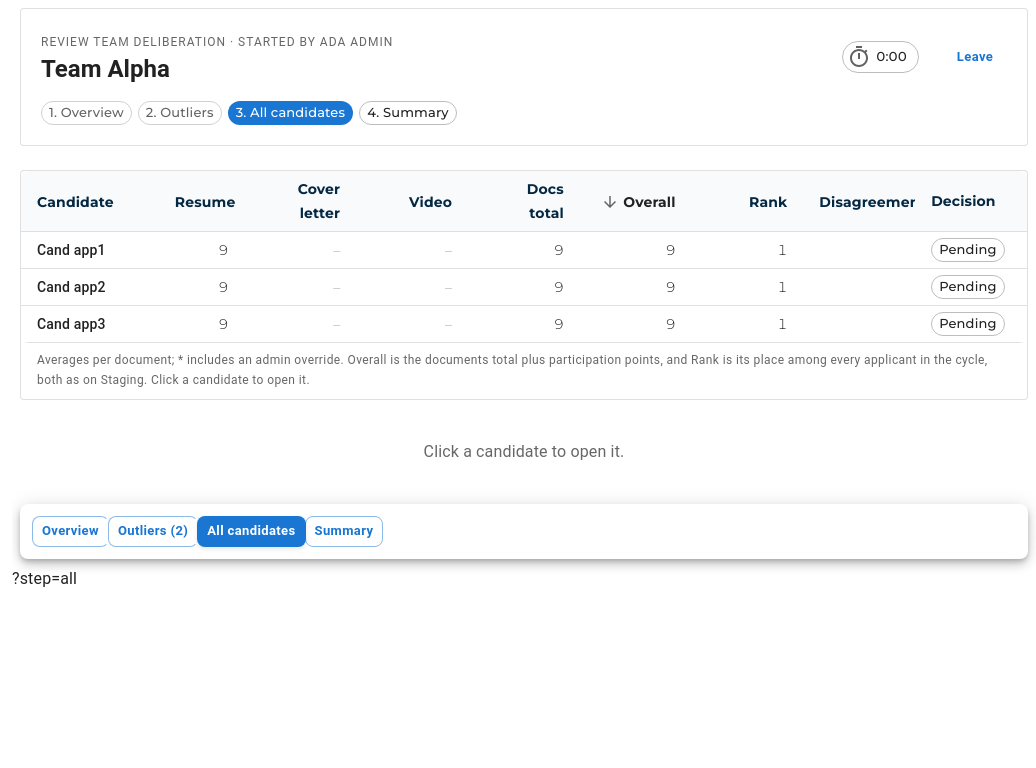
ReviewDelib: every viewer moves on their own › lets a member open any candidate from the list
Expected: the text "Click a candidate to open it." is shown, [424, 442, 624, 461]
Click the text "Cand app3".
click(77, 324)  # box [37, 314, 117, 334]
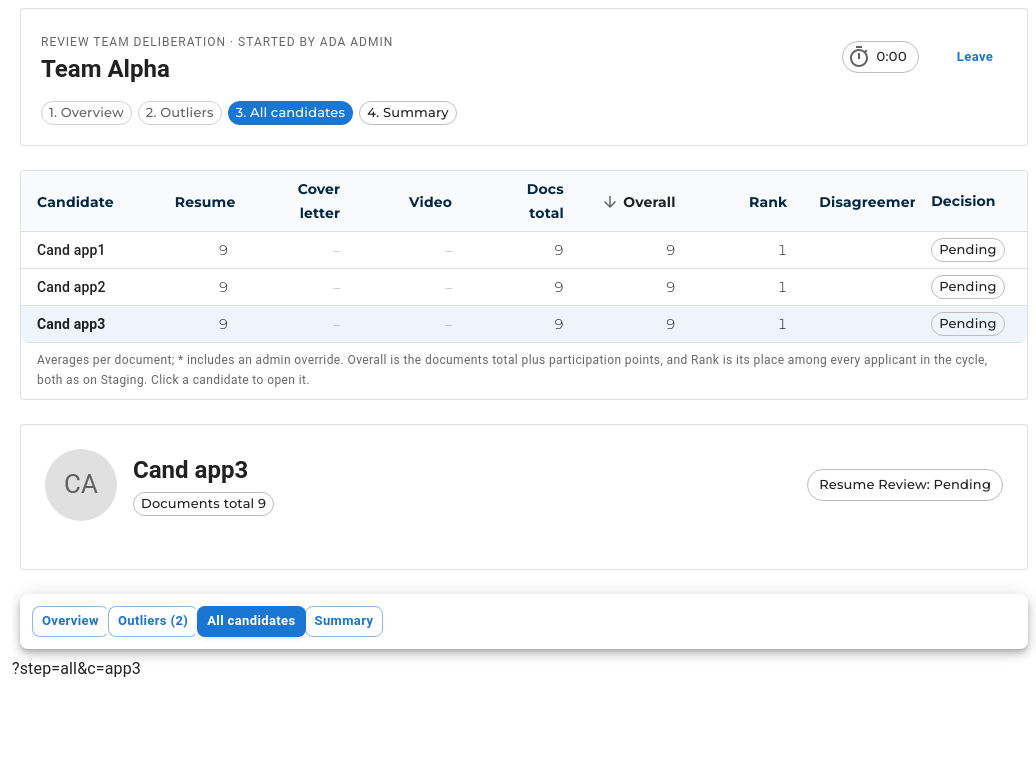
Expected: the text with test id "where" reads "?step=all&c=app3", [12, 659, 141, 678]
